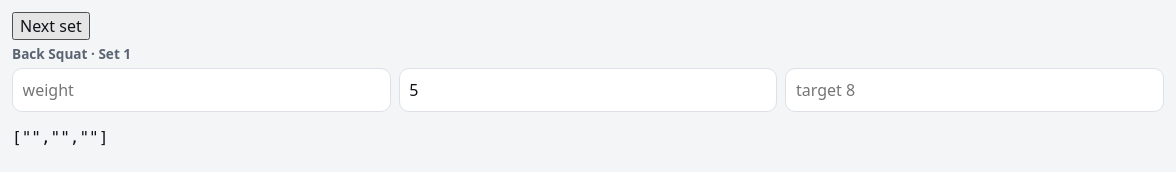
Test case: SetEntry (bug fix: per-set RPE, not shared across sets) › typing RPE on set 1 then advancing to set 2 and typing a different RPE leaves set 1 intact
This screenshot has width=1176, height=172.
In the number field with placeholder "target 8": x=975, y=90 [785,68,1164,112], type "7"
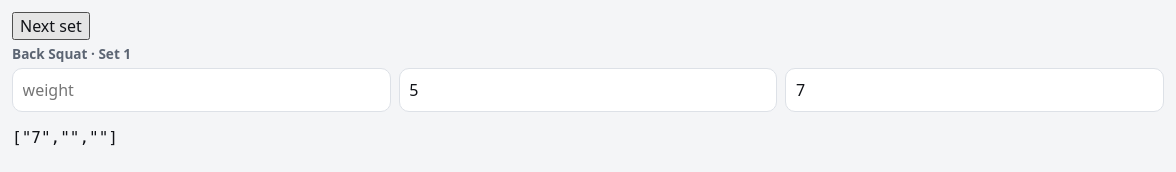
Result: the text with test id "rpes" reads "[\"7\",\"\",\"\"]" at [12,128,118,147]
Click the button "Next set": x=51, y=26 [12,12,90,40]
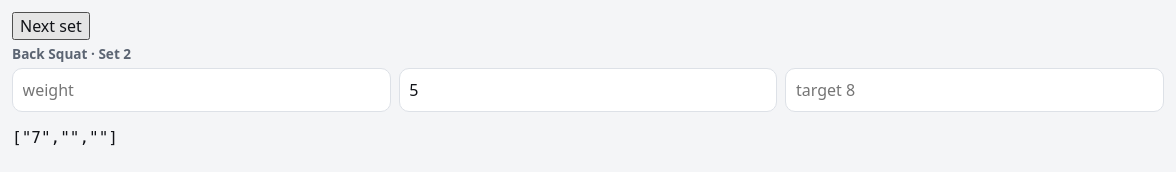
Result: the text "Back Squat · Set 2" is shown at [12,44,131,63]
In the number field with placeholder "target 8": x=975, y=90 [785,68,1164,112], type "9"
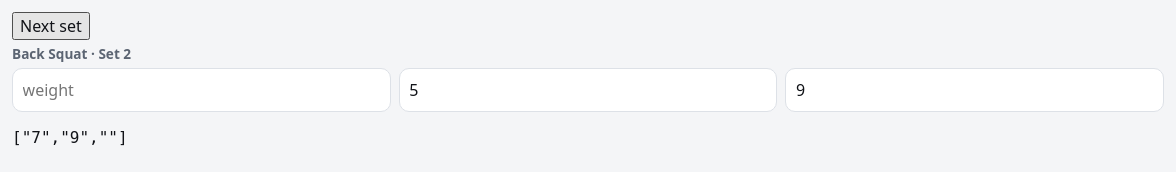
Result: the text with test id "rpes" reads "[\"7\",\"9\",\"\"]" at [12,128,128,147]
